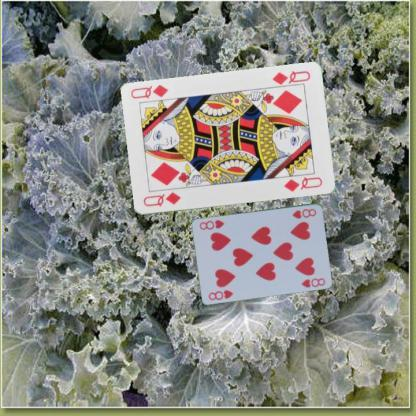8h: (206, 287, 235, 301), (290, 206, 317, 220)
Qd: (268, 68, 312, 90), (140, 189, 182, 208)
